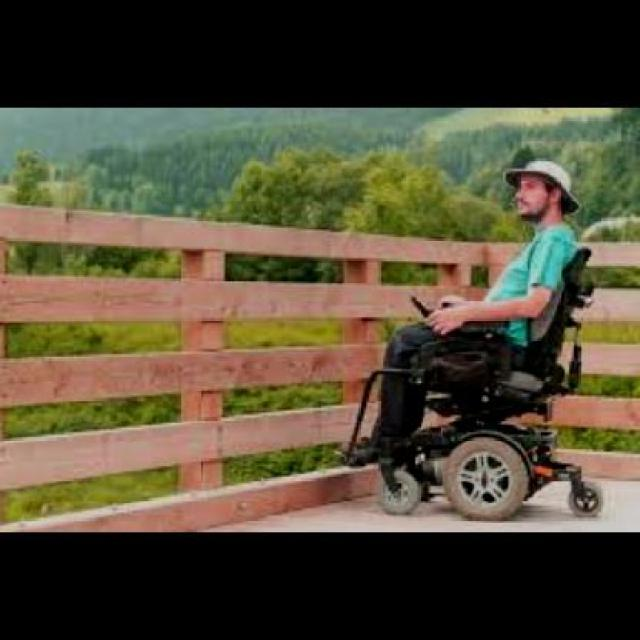wheelchairs: (367, 332, 604, 514)
